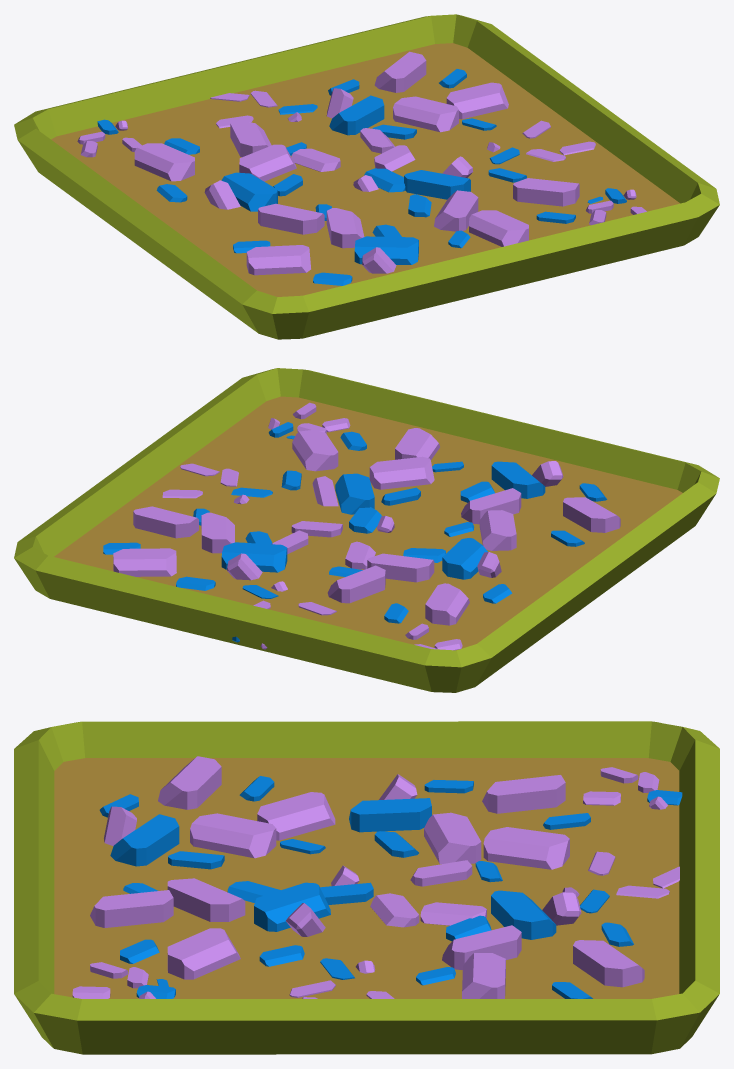
The model's file is ChocolateBarkChilled.fbx.
3 views of the same model, one above another, from view 1: azimuth 30°, elevation 25°; view 2: azimuth 150°, elevation 25°; view 3: azimuth 270°, elevation 25° (orthographic). The views are drawn at different scales.
Parts seen in each view (by area): view 1: Chocolate.001, TrayCookie.001, Roasted Nuts.004; view 2: Chocolate.001, TrayCookie.001, Roasted Nuts.004; view 3: Chocolate.001, TrayCookie.001, Roasted Nuts.004.
Part boxes in pixels (bbox=[...]): Chocolate.001: bbox=[51, 43, 679, 296]; TrayCookie.001: bbox=[14, 14, 719, 339]; Roasted Nuts.004: bbox=[77, 51, 646, 285]; Chocolate.001: bbox=[54, 396, 682, 650]; TrayCookie.001: bbox=[14, 368, 719, 692]; Roasted Nuts.004: bbox=[103, 402, 620, 650]; Chocolate.001: bbox=[54, 758, 679, 998]; TrayCookie.001: bbox=[14, 721, 719, 1054]; Roasted Nuts.004: bbox=[72, 756, 682, 998].
Size of the model in its own units: 50.34 by 4.48 by 50.34.
